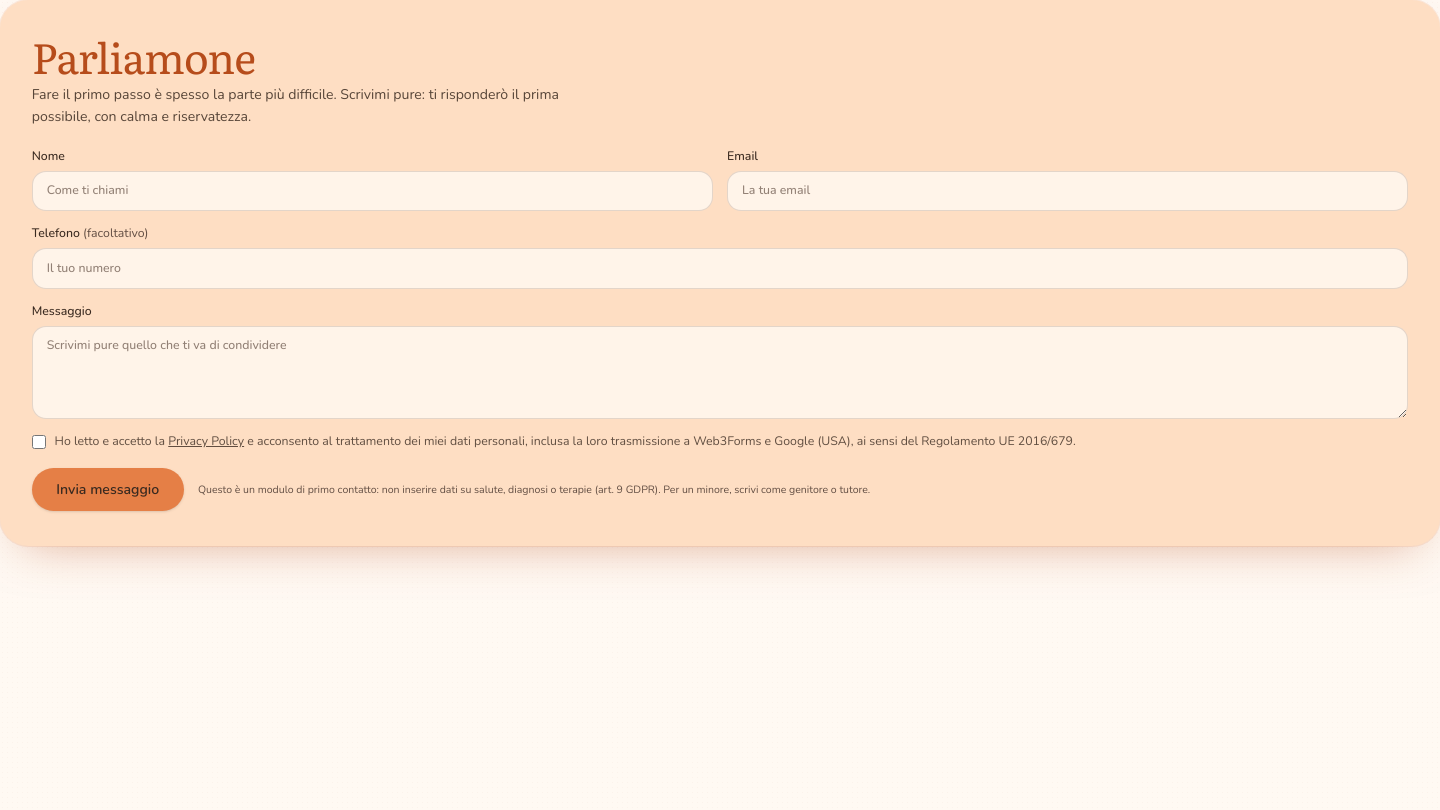
Test case: ContactBox › shows an error message when the API rejects
Type "Mario" into the field labelled "Nome".
click(372, 191); type("Mario")  # box [32, 171, 713, 211]
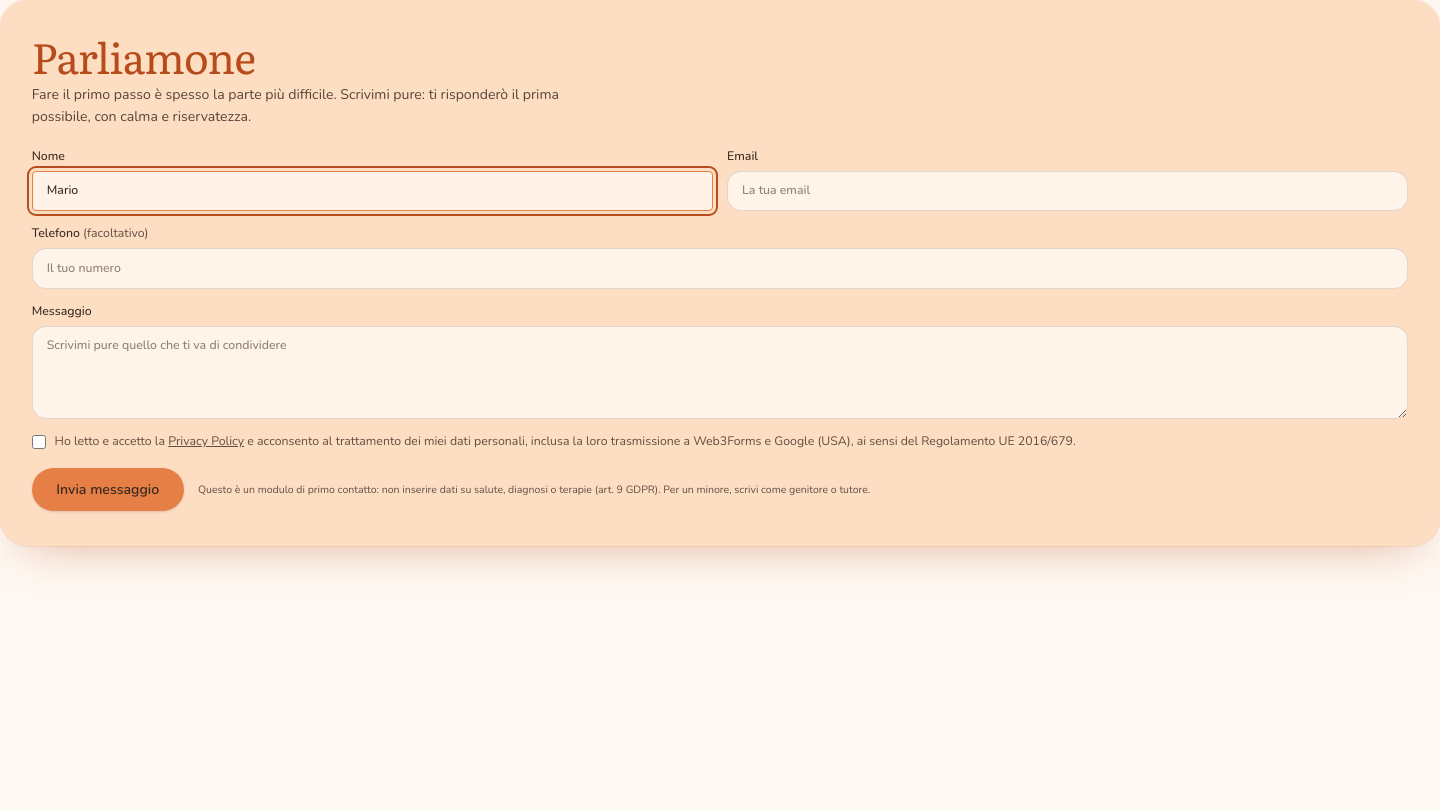
Type "mario@test.it" into the field labelled "Email".
click(1068, 191); type("mario@test.it")  # box [727, 171, 1408, 211]
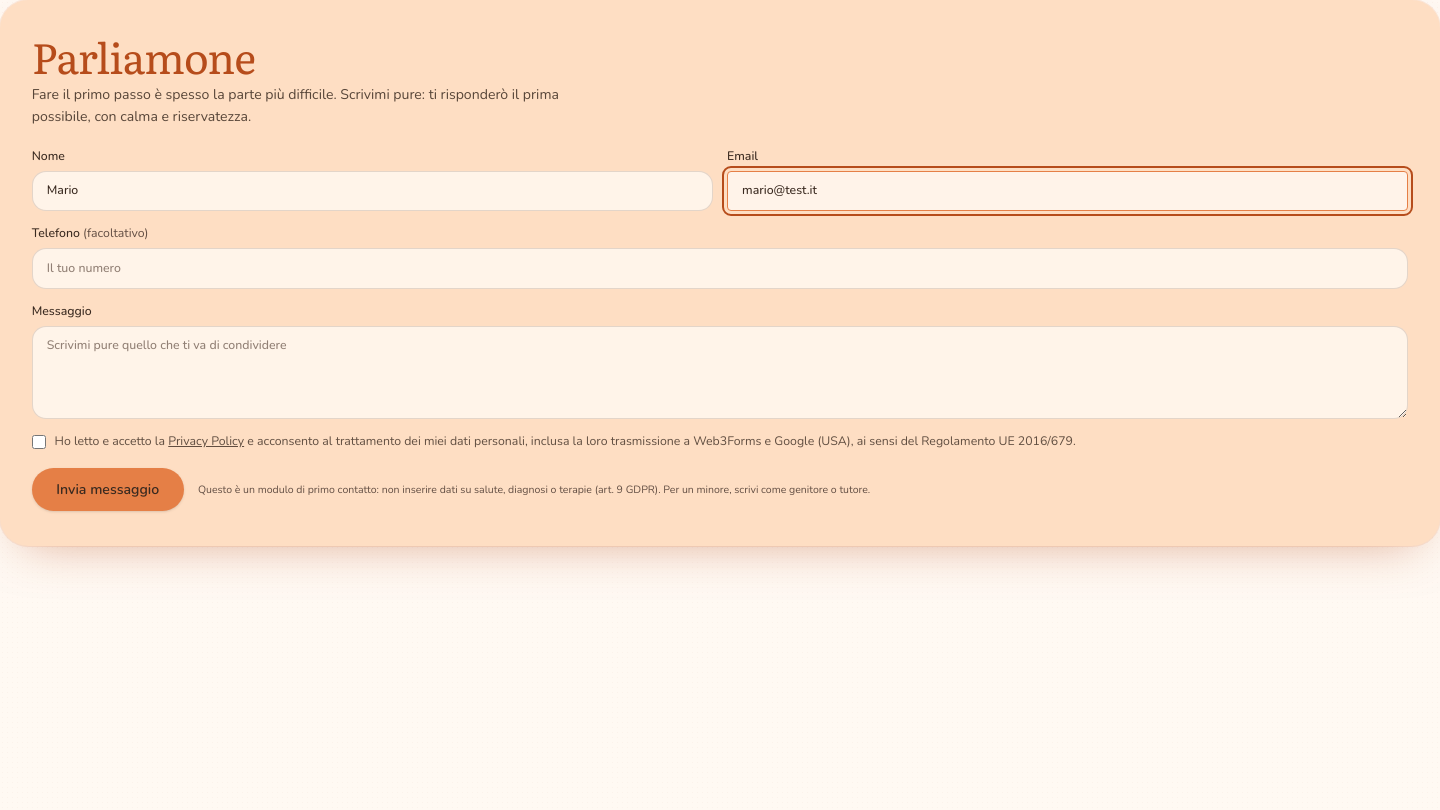
Type "Ciao Chiara" into the text box labelled "Messaggio".
click(720, 372); type("Ciao Chiara")  # box [32, 326, 1408, 419]
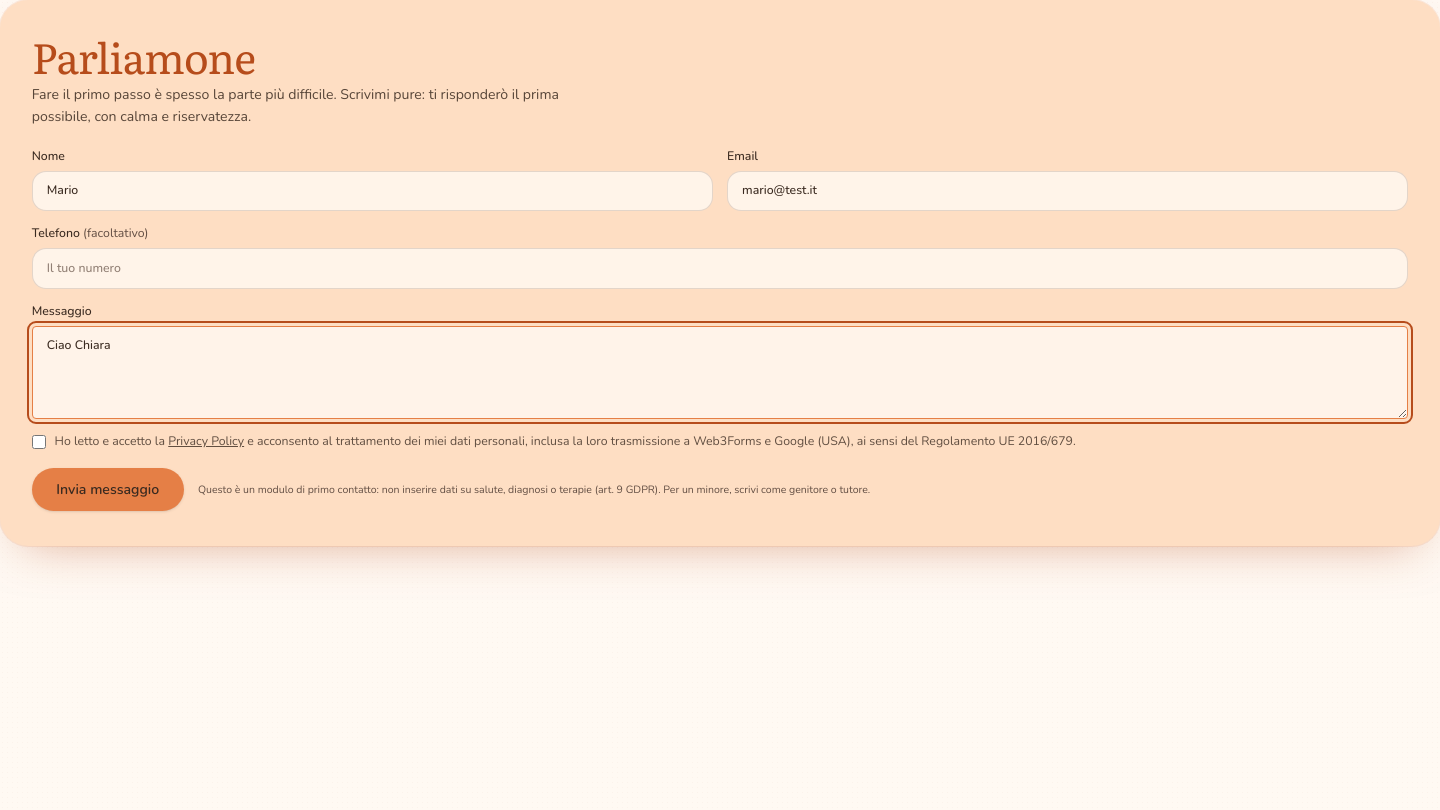
Click the checkbox.
click(39, 442)  # box [32, 435, 46, 449]
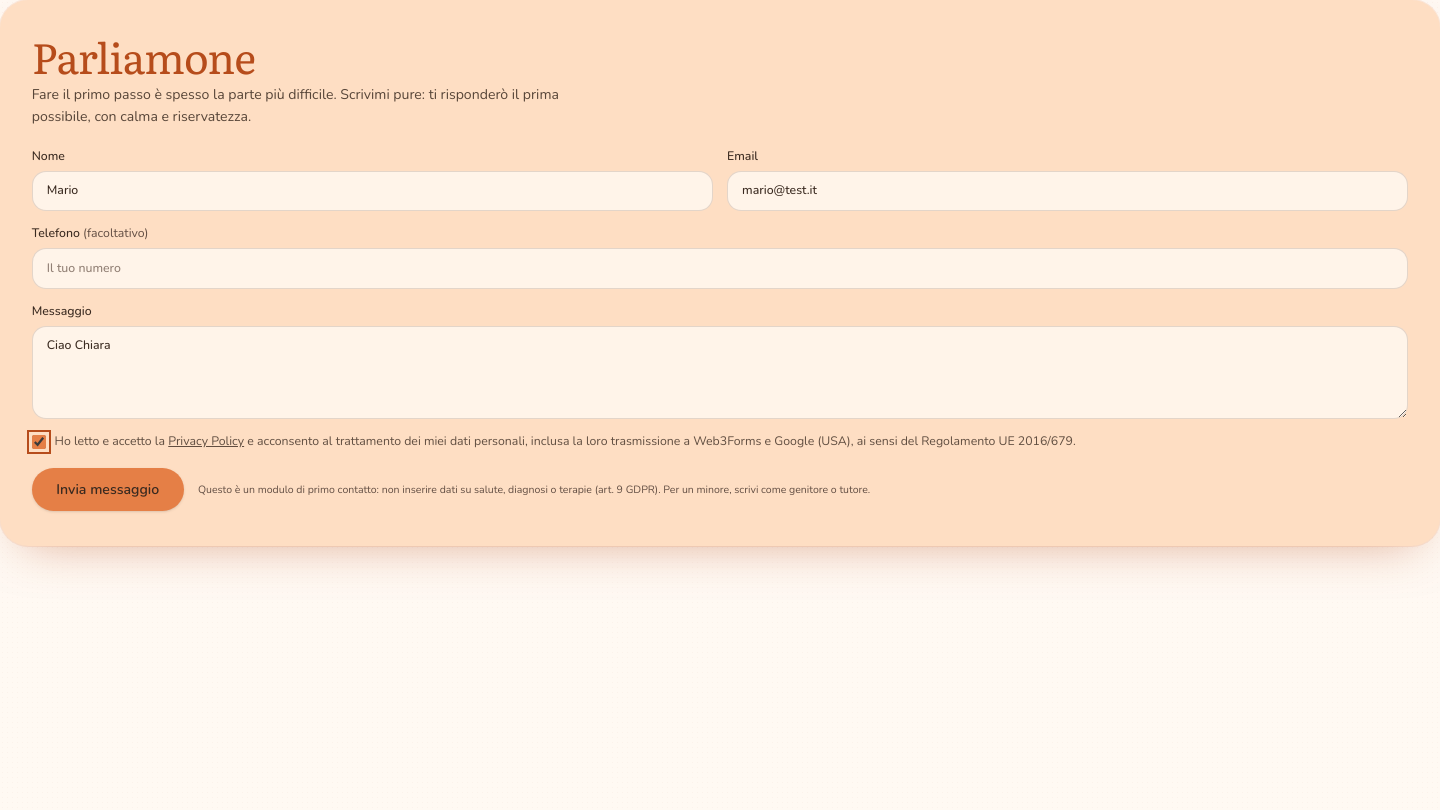
Click the button "Invia messaggio".
click(108, 490)  # box [32, 468, 184, 511]
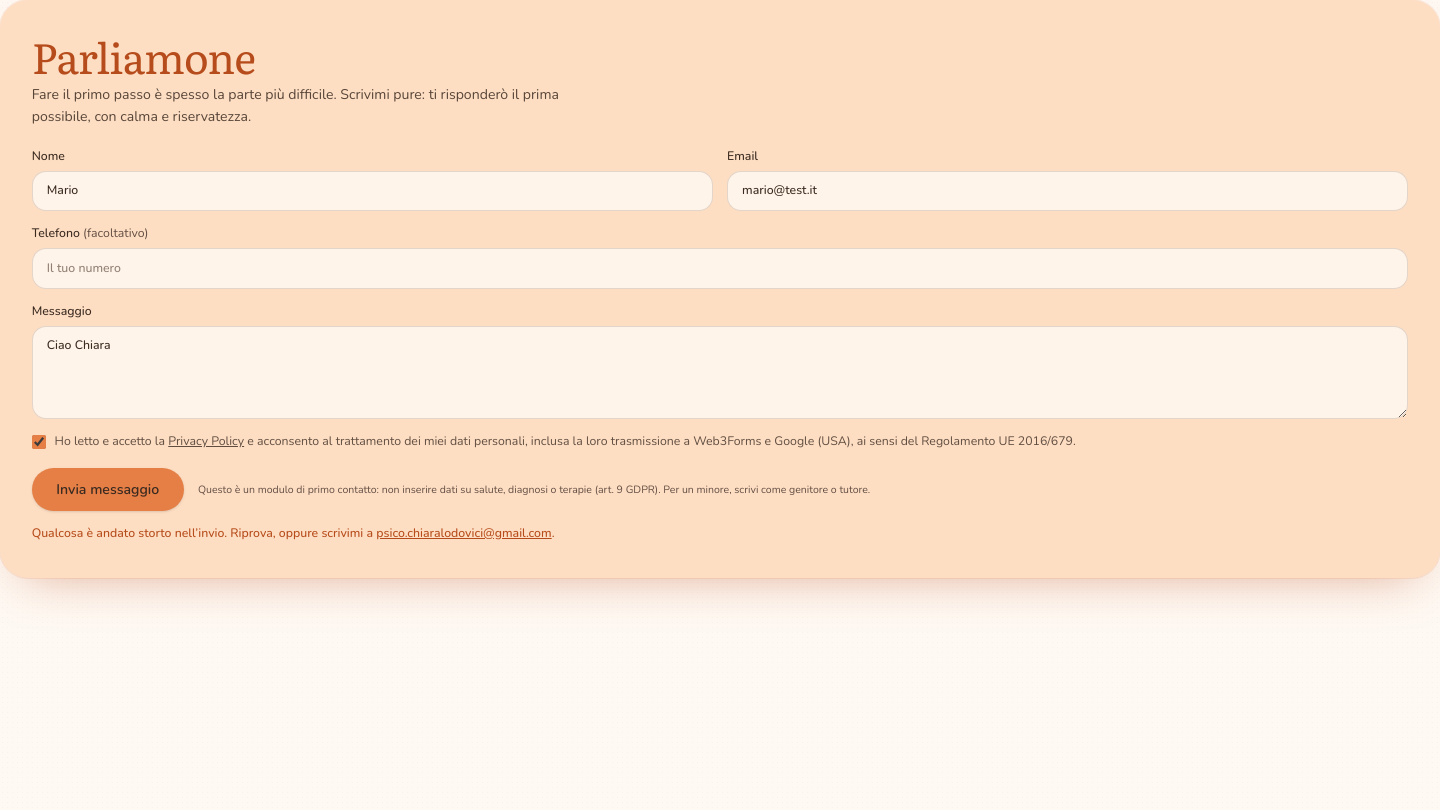
Expected: the text "Riprova" is shown, [32, 525, 373, 541]
